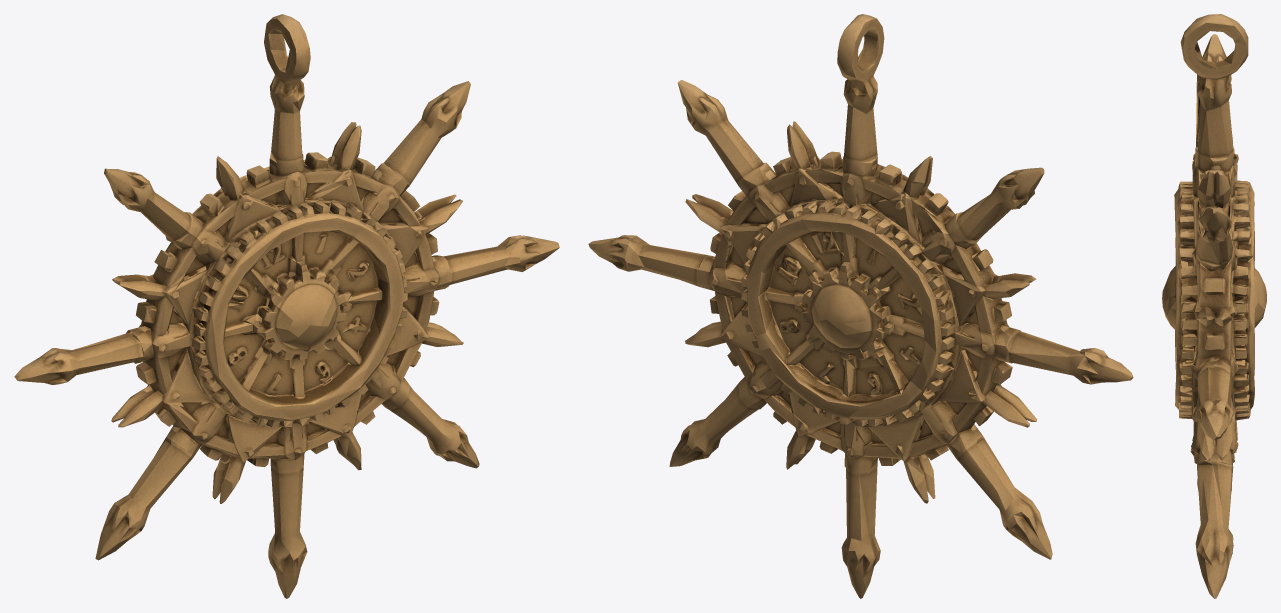
File: amuleto_power.glb
The picture shows the model from 3 angles, left to right: view 1: azimuth 30°, elevation 25°; view 2: azimuth 150°, elevation 25°; view 3: azimuth 270°, elevation 25°; orthographic projection.
Parts seen in each view (by area): view 1: output_unwrapped; view 2: output_unwrapped; view 3: output_unwrapped.
Boxes of the visible parts, x1,y1,x2,y2 form: output_unwrapped: (14, 14, 559, 598); output_unwrapped: (588, 14, 1133, 598); output_unwrapped: (1162, 14, 1266, 598).
Bounding box in the file's own units: 1.86 × 1.9 × 0.3137.
Materials: 1 (1 with a texture image).
